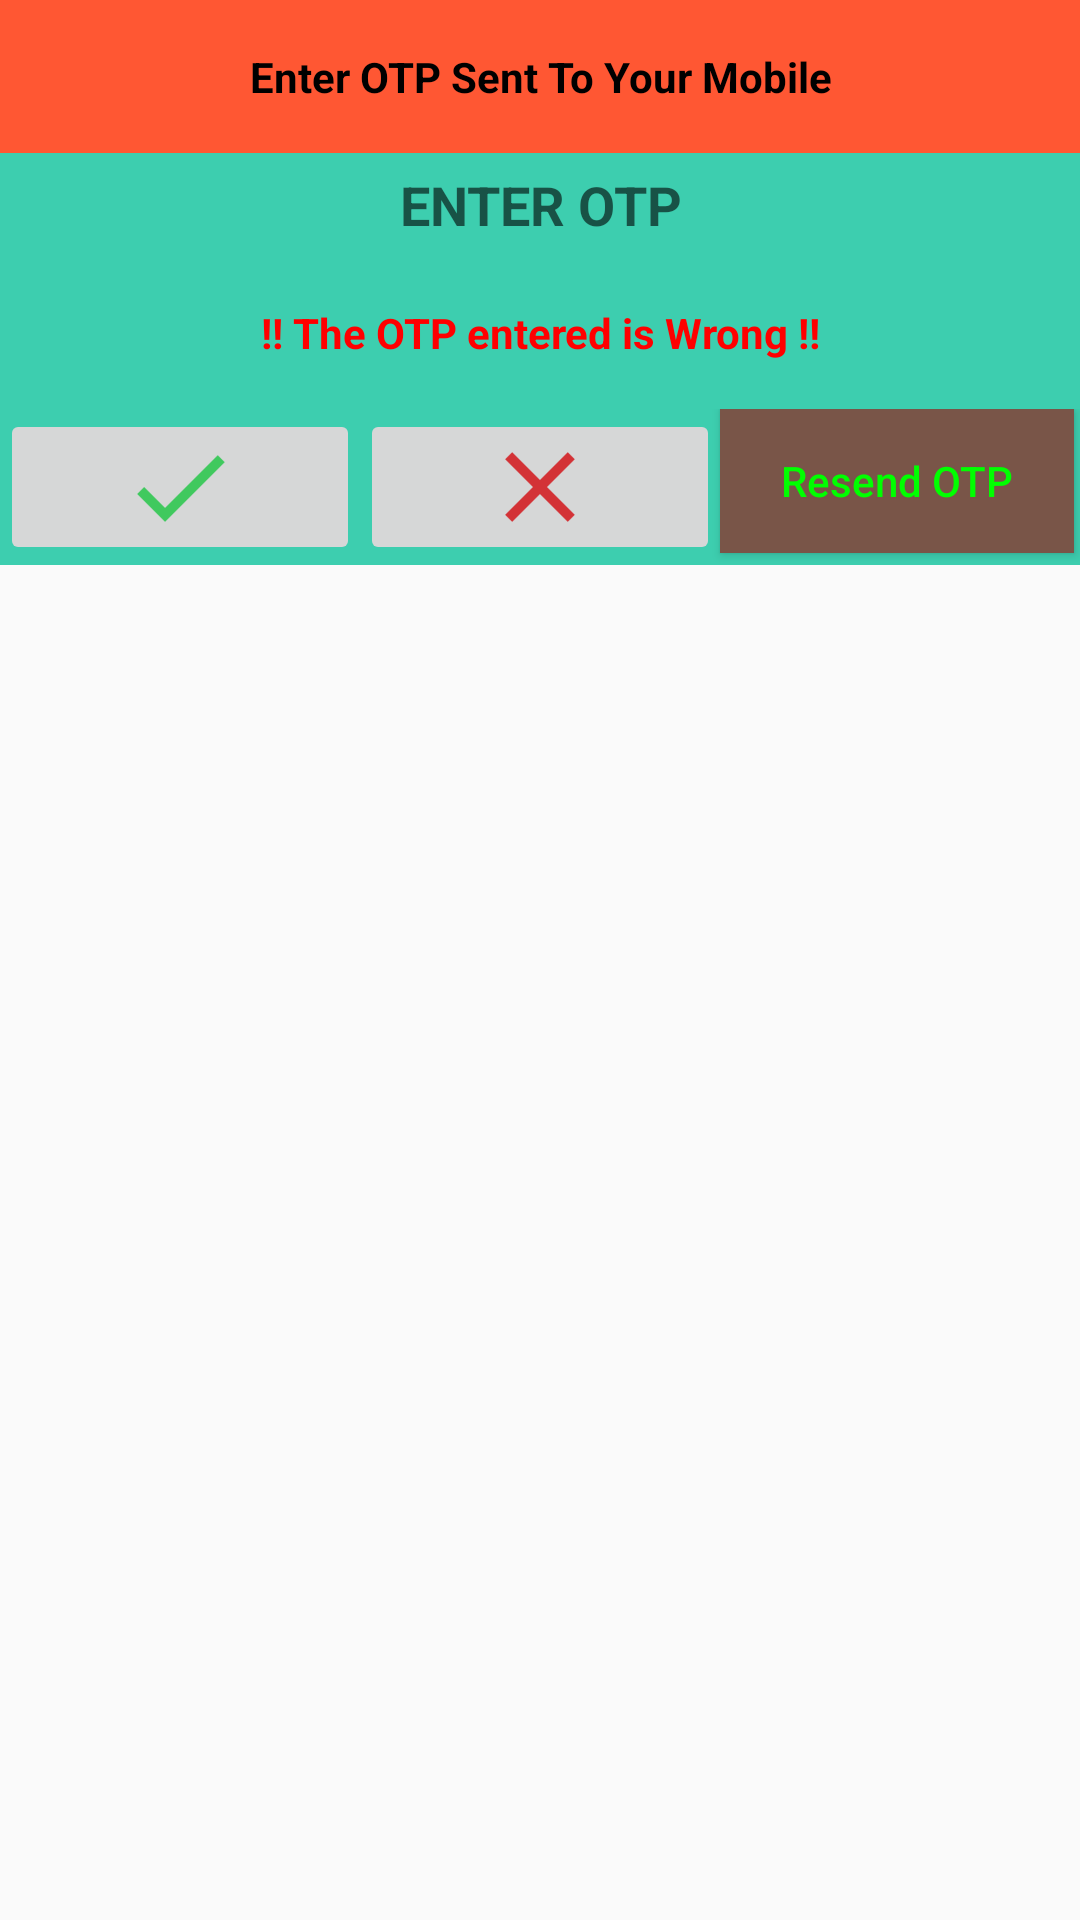

Screen size 1080px×1920px. Icon name, then its center in pixels as point (x, y):
correctletter: point (180, 487)
wrongletter: point (540, 487)
